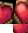heart: (13, 0, 28, 24), (0, 0, 13, 24), (13, 24, 28, 33)
